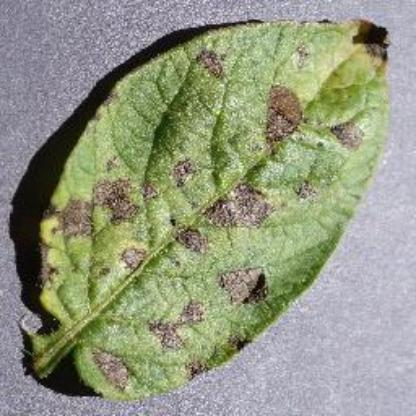Early-Blight: (27, 12, 396, 404)
